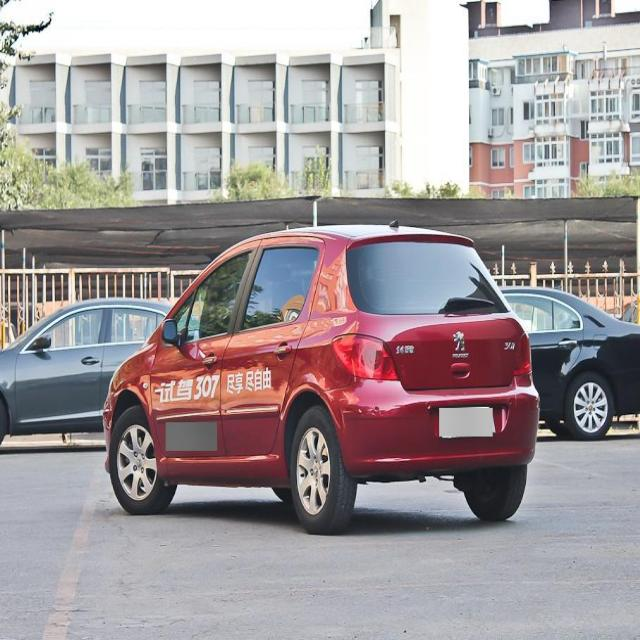back_glass: (346, 240, 512, 317)
back_left_side_light: (329, 332, 403, 384)
back_right_side_light: (510, 330, 533, 378)
door: (220, 235, 331, 473)
front_left_side_door: (150, 236, 262, 466)
front_left_side_mirror: (159, 318, 182, 348)
rear_bumper: (317, 373, 541, 479)
wheel: (289, 406, 357, 536), (110, 404, 177, 513), (457, 464, 527, 520)
